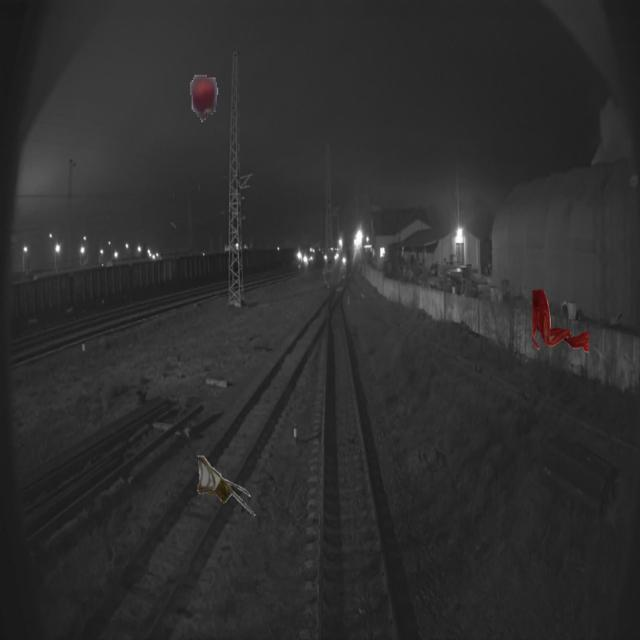balloon: (183, 70, 222, 134)
floating object: (197, 456, 257, 520), (532, 289, 588, 353)
